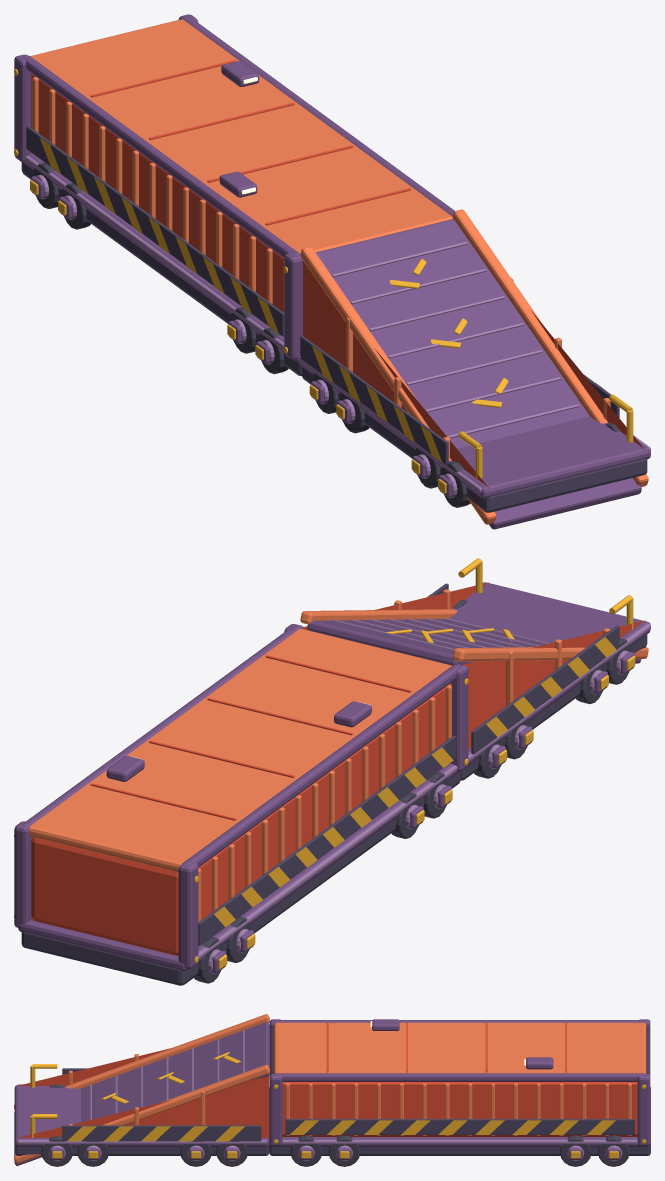
Rendered from freight_ramp.glb.
3 views of the same model, one above another, from view 1: azimuth 30°, elevation 25°; view 2: azimuth 150°, elevation 25°; view 3: azimuth 270°, elevation 25° (orthographic). The views are drawn at different scales.
Parts seen in each view (by area): view 1: Purple chassis, Vertical cargo rib, Container body, Heavy underframe, Chassis trim, Diagonal safety stripe, Wheel; view 2: Vertical cargo rib, Purple chassis, Container body, Heavy underframe, Chassis trim, Diagonal safety stripe, Wheel; view 3: Vertical cargo rib, Purple chassis, Container body, Heavy underframe, Diagonal safety stripe, Chassis trim, Wheel.
Boxes of the visible parts, x1=… form: Purple chassis: x1=14, y1=14, x2=650, y2=529; Vertical cargo rib: x1=30, y1=19, x2=648, y2=524; Container body: x1=31, y1=60, x2=644, y2=487; Heavy underframe: x1=21, y1=126, x2=647, y2=512; Chassis trim: x1=25, y1=156, x2=650, y2=498; Diagonal safety stripe: x1=14, y1=69, x2=633, y2=493; Wheel: x1=32, y1=162, x2=619, y2=507; Vertical cargo rib: x1=29, y1=589, x2=648, y2=946; Purple chassis: x1=14, y1=582, x2=650, y2=972; Container body: x1=31, y1=582, x2=645, y2=955; Heavy underframe: x1=21, y1=583, x2=647, y2=985; Chassis trim: x1=198, y1=618, x2=650, y2=973; Diagonal safety stripe: x1=14, y1=558, x2=635, y2=969; Wheel: x1=194, y1=600, x2=632, y2=983; Vertical cargo rib: x1=14, y1=1014, x2=646, y2=1163; Purple chassis: x1=14, y1=1019, x2=650, y2=1165; Container body: x1=15, y1=1023, x2=637, y2=1138; Heavy underframe: x1=14, y1=1068, x2=650, y2=1155; Diagonal safety stripe: x1=30, y1=1052, x2=646, y2=1158; Chassis trim: x1=17, y1=1030, x2=637, y2=1161; Wheel: x1=41, y1=1084, x2=629, y2=1166.
Bounding box in the file's own units: 2.84 × 2.11 × 12.01.
